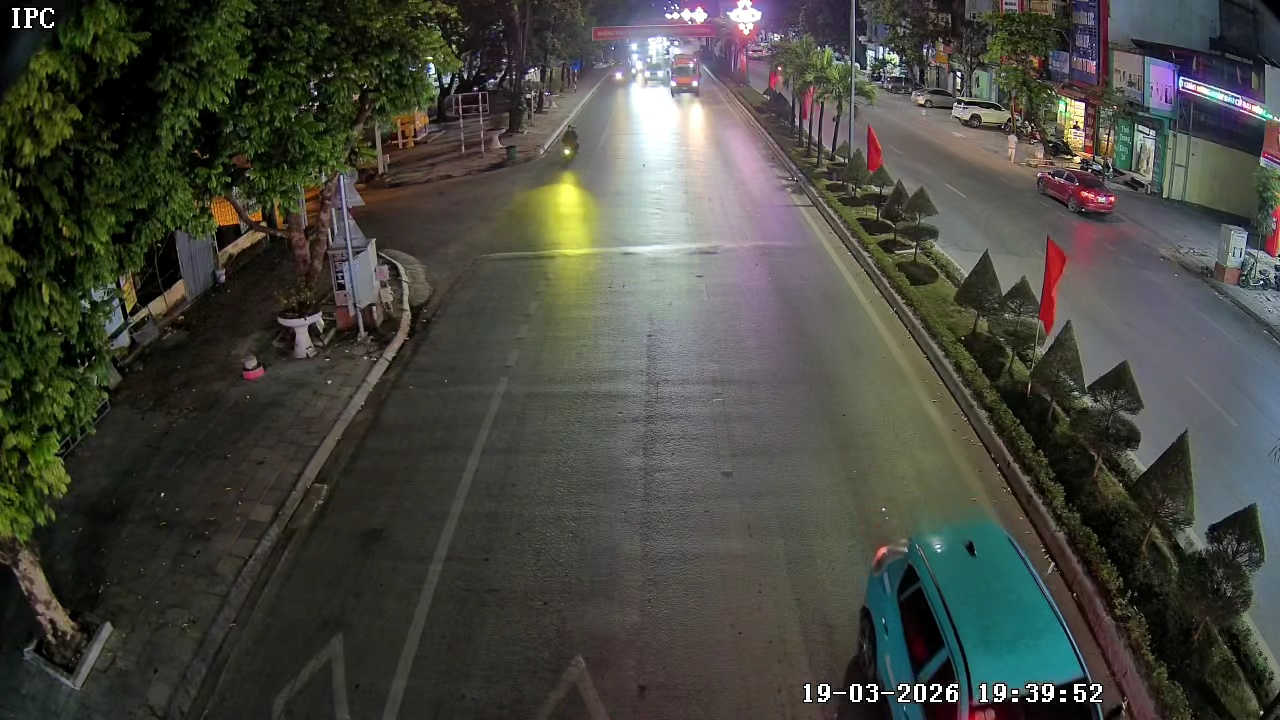car: (826, 526, 1137, 719), (1037, 166, 1116, 219)
motorbike: (557, 125, 582, 176)
truck: (1037, 166, 1115, 219), (668, 48, 707, 102)
